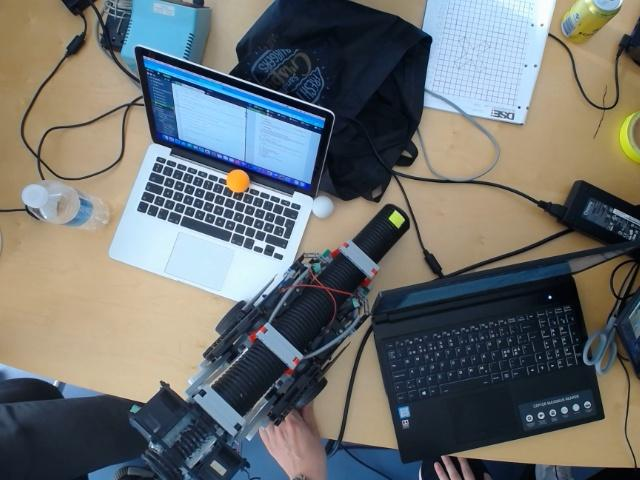orange: (227, 168, 249, 192)
robot: (130, 205, 410, 480)
robot-front: (359, 204, 409, 255)
white: (312, 195, 335, 221)
